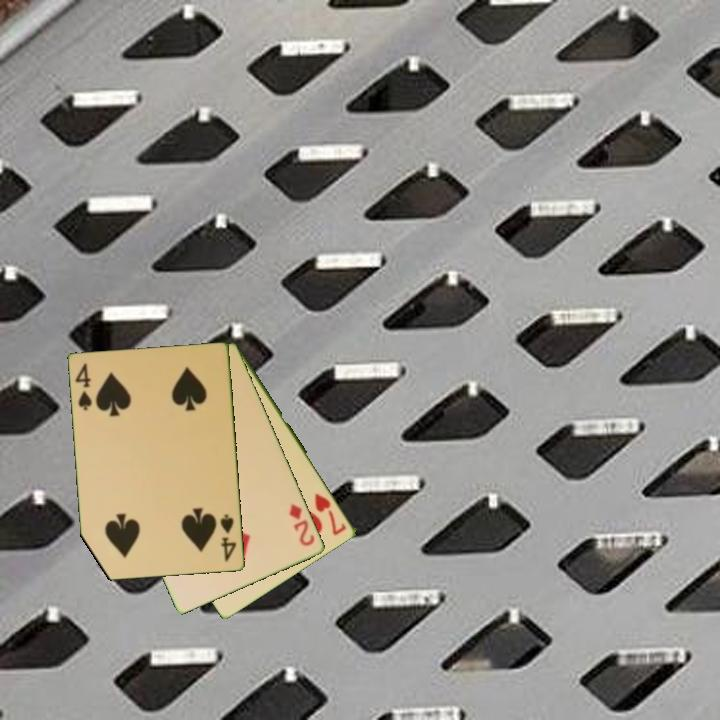2d: (286, 500, 318, 549)
4s: (217, 511, 240, 565), (72, 360, 95, 414)
7h: (311, 490, 350, 538)
